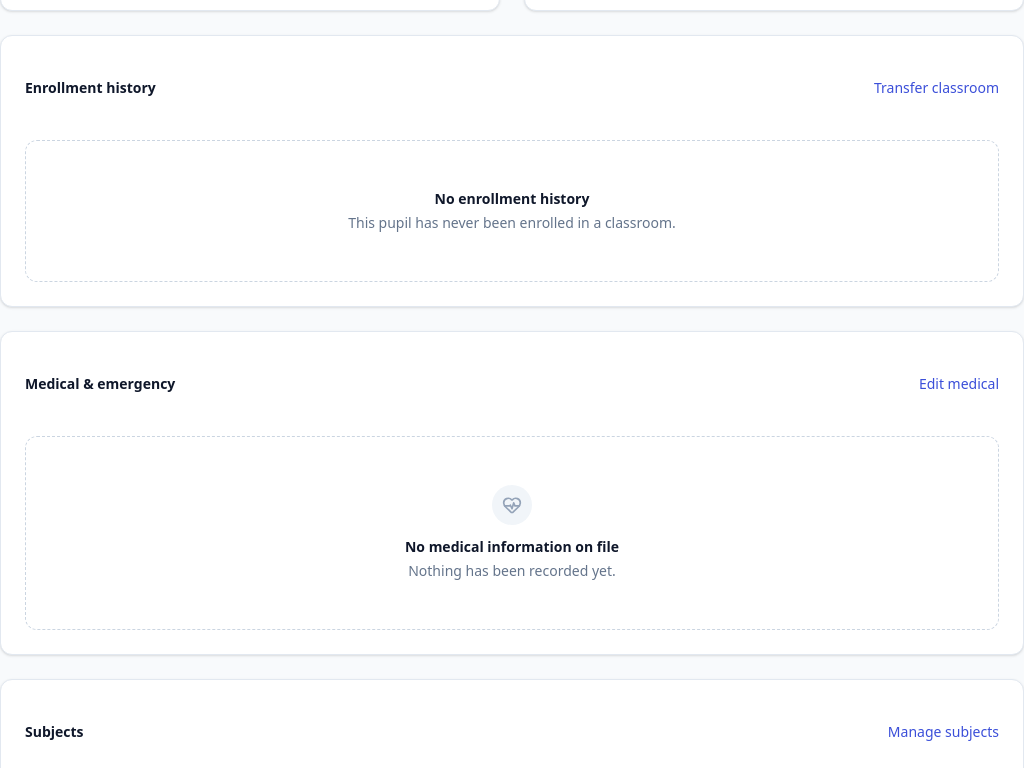
Test: StudentDetailPage › shows an empty state and edits medical information
The image size is (1024, 768).
(page scrolled)
Expected: the heading "No medical information on file" is shown, [405,537,619,557]
Click the button "Edit medical" at coordinates (959, 384), box [919,374,999,394]
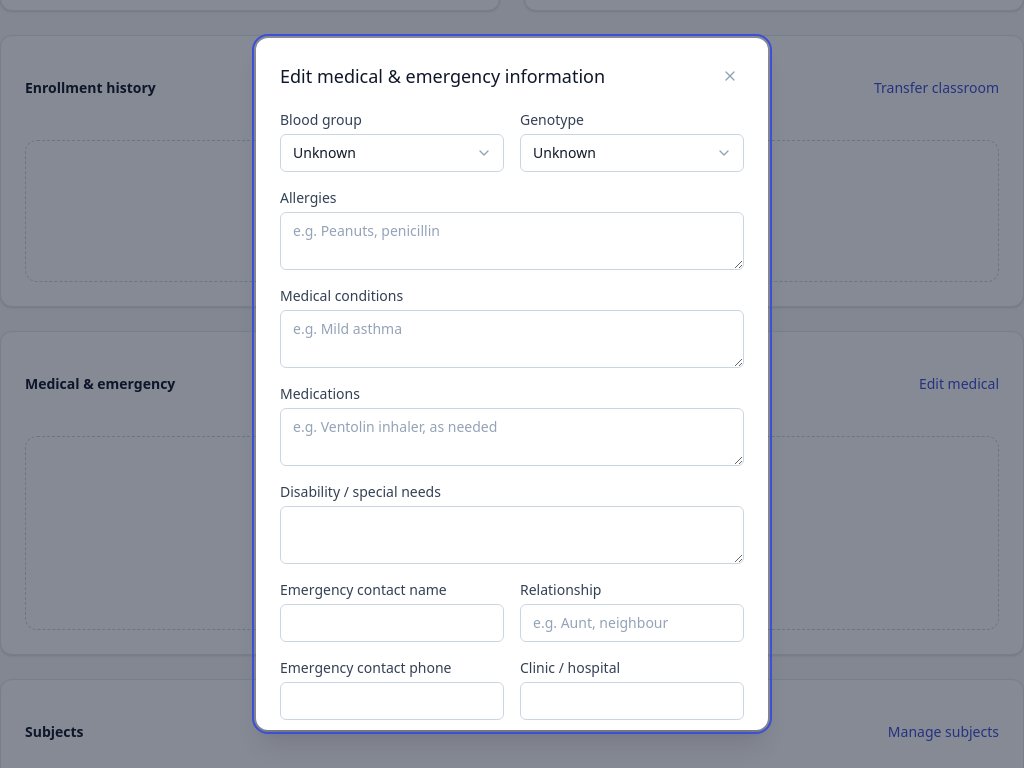
Select "O+" in the dropdown labelled "Blood group" at coordinates (392, 153), box [280,134,504,172]
(page scrolled)
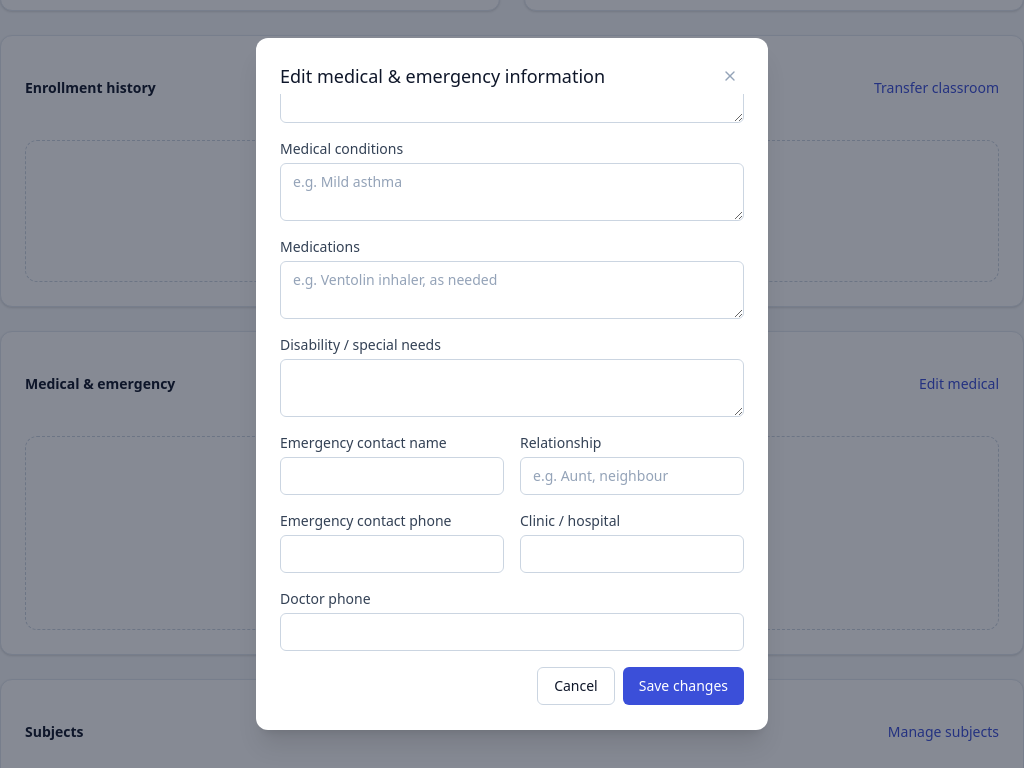
Click the button "Save changes" at coordinates (683, 686), box [623,667,744,705]
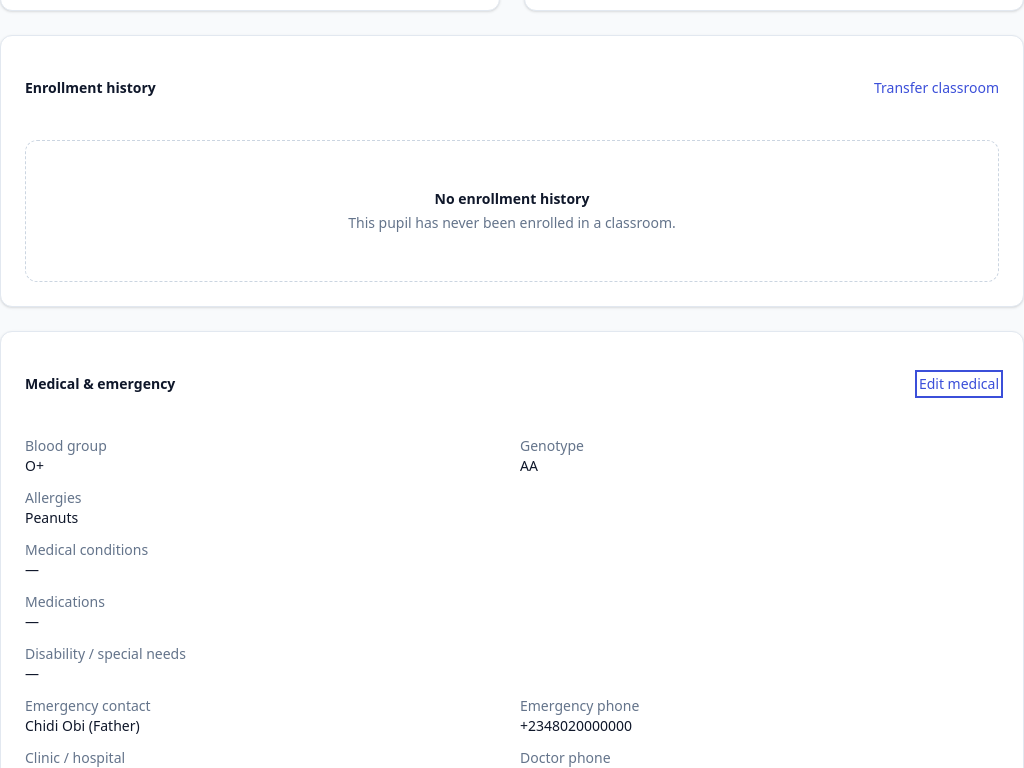
Expected: the text "O+" is shown, [25,456,44,475]
